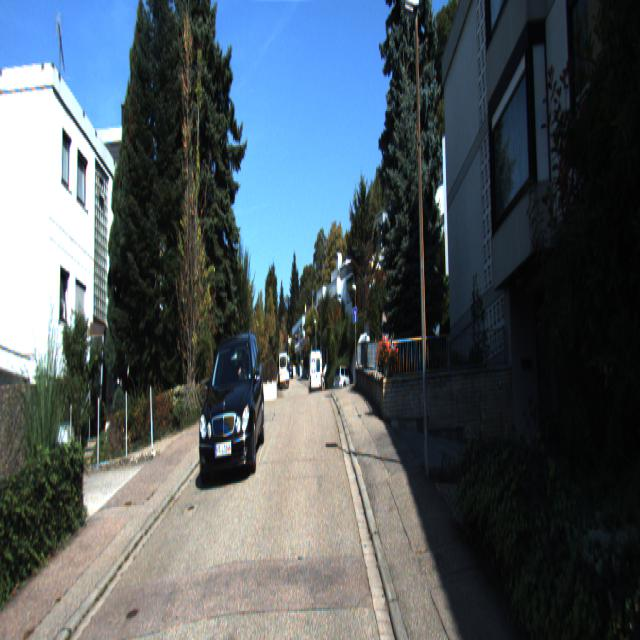Car: (198, 329, 266, 490), (308, 348, 323, 400)
